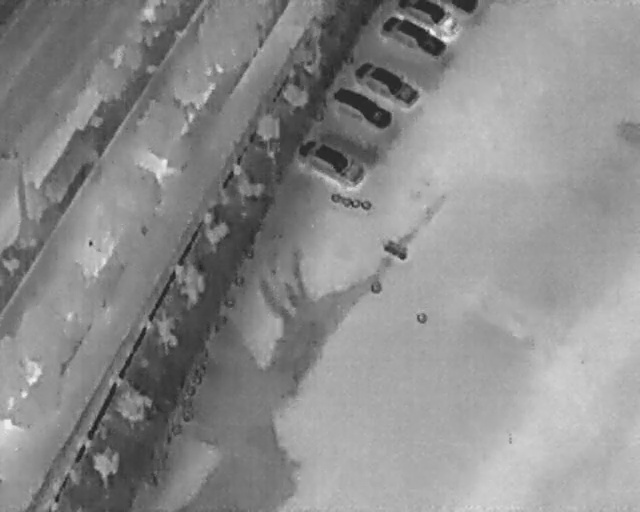Car: (290, 125, 372, 194), (348, 52, 425, 117), (375, 6, 452, 69), (326, 76, 400, 137), (397, 0, 462, 37)
